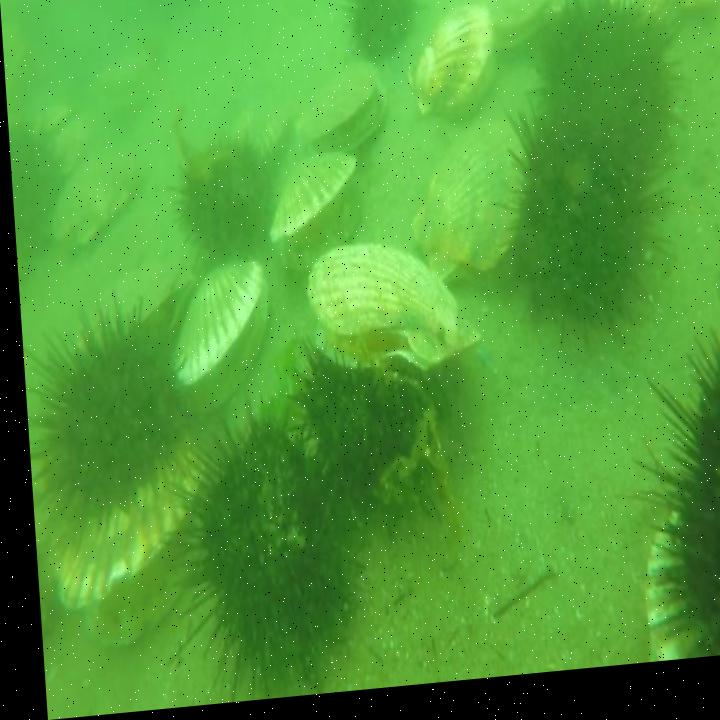echinus: (159, 401, 353, 710), (499, 96, 678, 361), (17, 299, 191, 542), (622, 294, 720, 674), (283, 331, 430, 556), (530, 0, 680, 140), (163, 130, 273, 271), (6, 108, 65, 254), (335, 0, 422, 74)
scallop: (45, 438, 210, 658), (297, 237, 481, 393), (400, 126, 530, 306), (159, 264, 272, 414), (263, 149, 367, 287), (402, 7, 506, 140), (625, 492, 693, 675), (46, 140, 142, 269), (289, 60, 390, 172), (597, 0, 720, 53), (478, 0, 555, 67)
